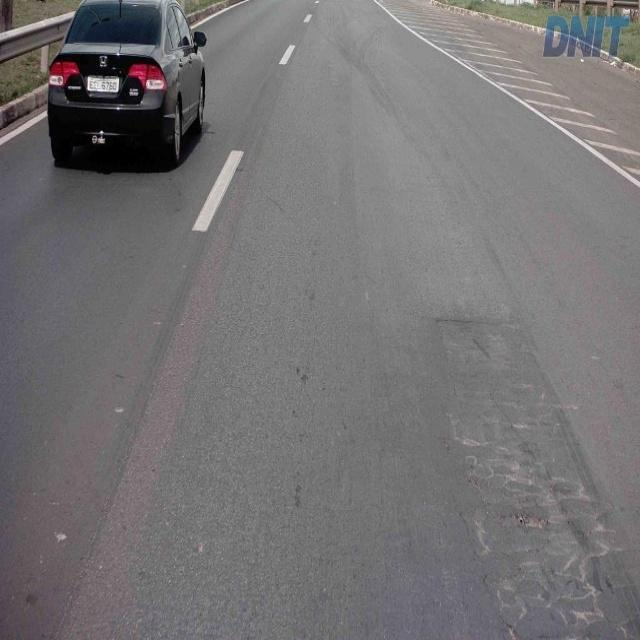pothole: (509, 508, 555, 534)
